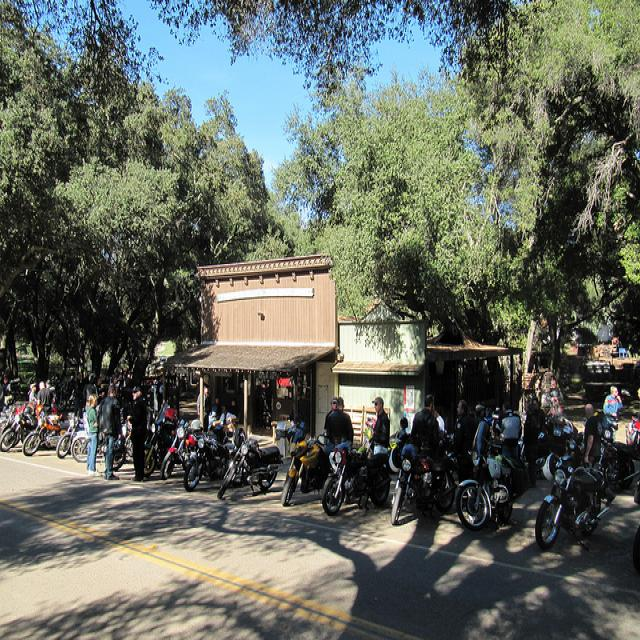motor: (534, 447, 615, 555), (390, 416, 458, 526), (454, 445, 531, 533), (321, 440, 394, 518), (160, 411, 230, 480), (216, 431, 285, 500), (279, 436, 332, 507), (182, 430, 235, 492), (22, 404, 71, 457), (144, 404, 178, 475), (56, 418, 85, 459), (71, 431, 88, 463)
